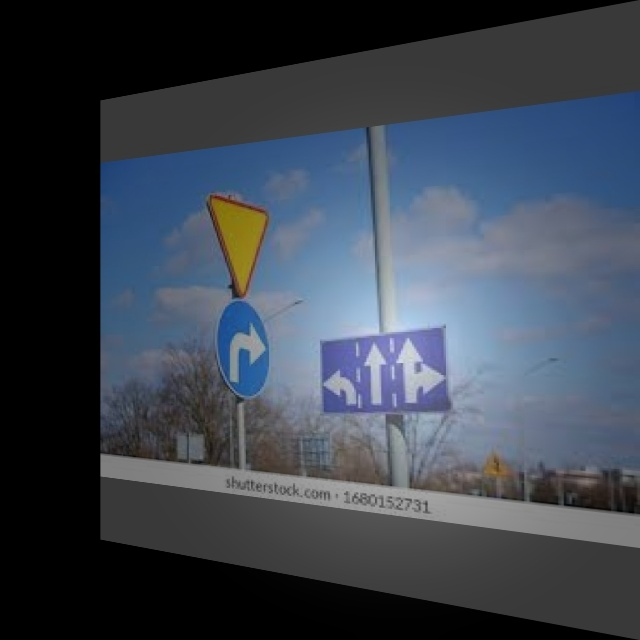Compulsory_Ahead_or_Turn_Right: (389, 319, 449, 423)
